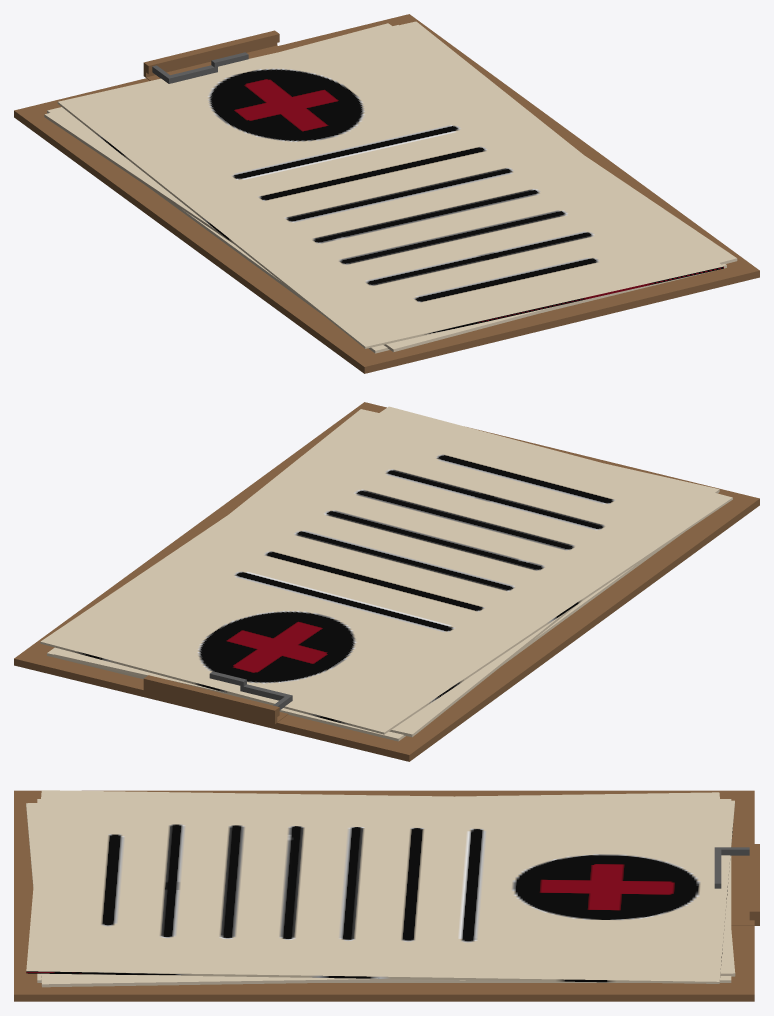
The model's file is Ficha medica.fbx.
3 views of the same model, one above another, from view 1: azimuth 30°, elevation 25°; view 2: azimuth 150°, elevation 25°; view 3: azimuth 270°, elevation 25° (orthographic). The views are drawn at different scales.
Visible parts, largest first — view 1: Papel_3, Cube, Papel_2; view 2: Papel_3, Cube, Papel_2; view 3: Papel_3, Cube, Papel_2.
Boxes of the visible parts, left/top/right/bottom form: Papel_3: left=57, top=21, right=723, bottom=348; Cube: left=14, top=14, right=759, bottom=373; Papel_2: left=44, top=23, right=737, bottom=353; Papel_3: left=40, top=406, right=732, bottom=734; Cube: left=14, top=402, right=759, bottom=761; Papel_2: left=47, top=409, right=719, bottom=741; Papel_3: left=26, top=790, right=734, bottom=983; Cube: left=14, top=790, right=759, bottom=1001; Papel_2: left=26, top=792, right=735, bottom=987.
Size of the model in its own units: 130 by 7.59 by 201.
